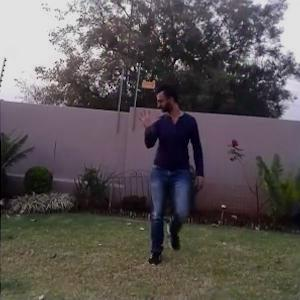follow_hand: (135, 105, 156, 132)
